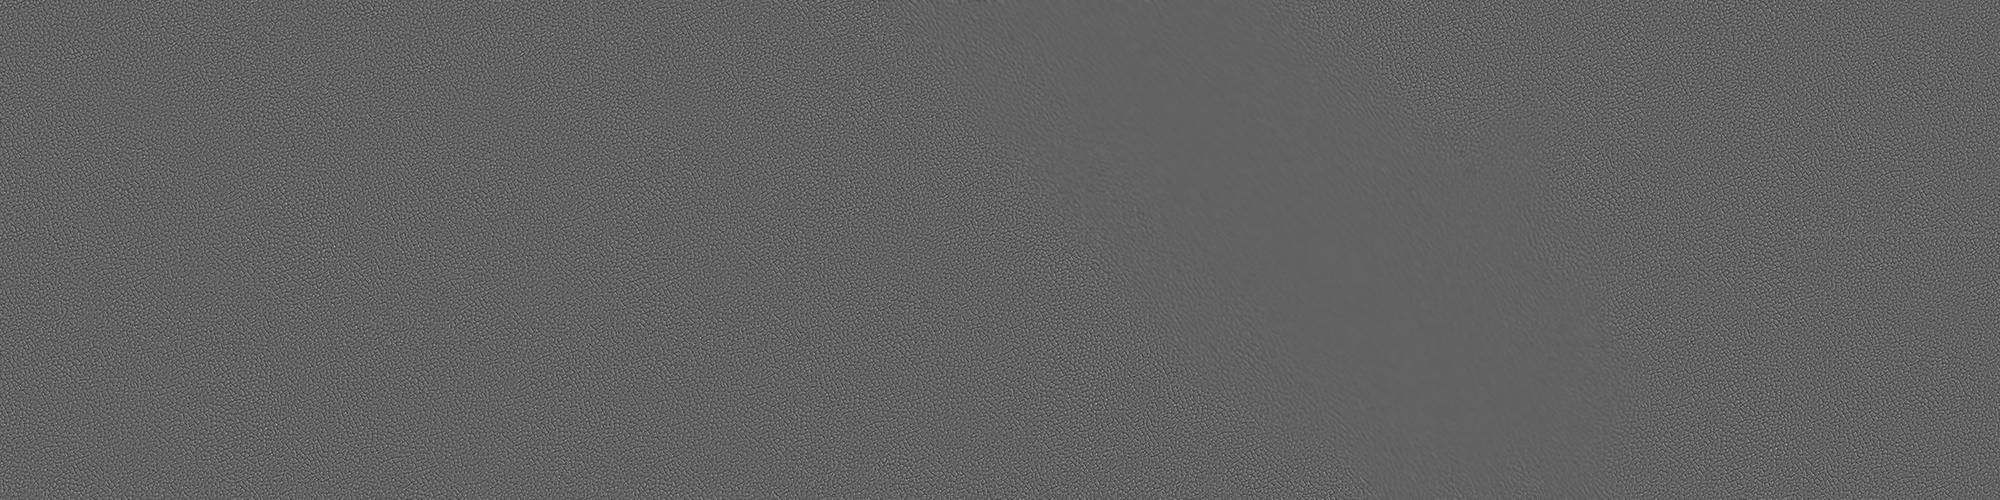Flow_Lines: (966, 17, 1602, 497)
